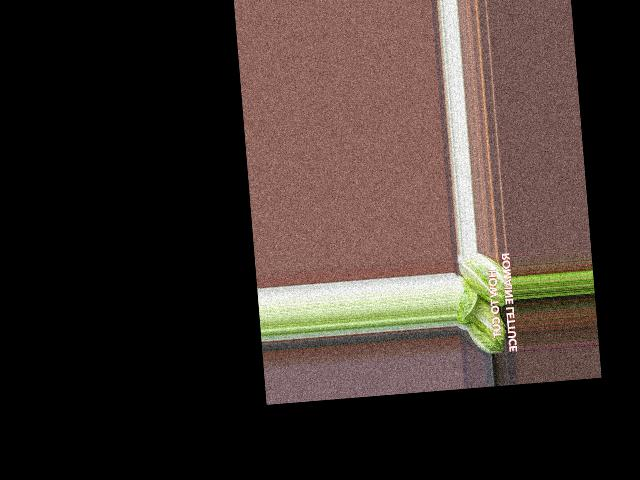lettuce: (460, 290, 512, 358)
